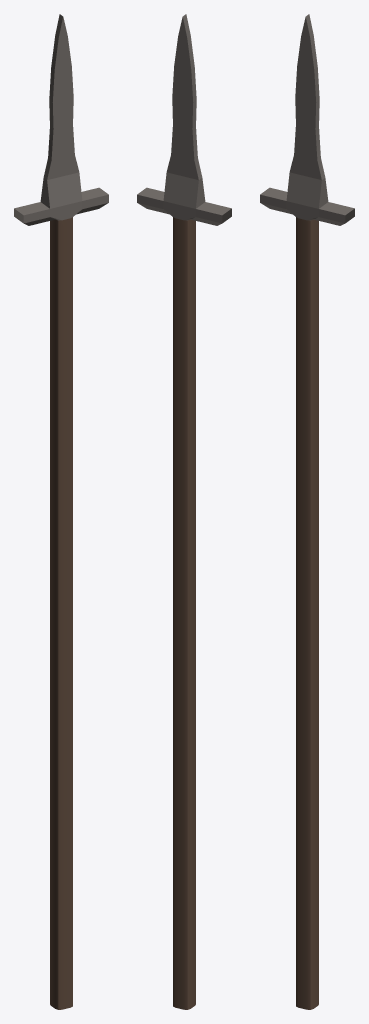
File: P_Spear_1.fbx
3 renders of one model, left to right at view 1: azimuth 30°, elevation 25°; view 2: azimuth 150°, elevation 25°; view 3: azimuth 330°, elevation 25°, orthographic.
Parts seen in each view (by area): view 1: pCube2; view 2: pCube2; view 3: pCube2.
Part boxes in pixels (<box>): pCube2: <box>14,14,108,1009</box>; pCube2: <box>137,14,231,1009</box>; pCube2: <box>260,14,354,1009</box>.
Size of the model in its own units: 24.26 by 269 by 4.88.
